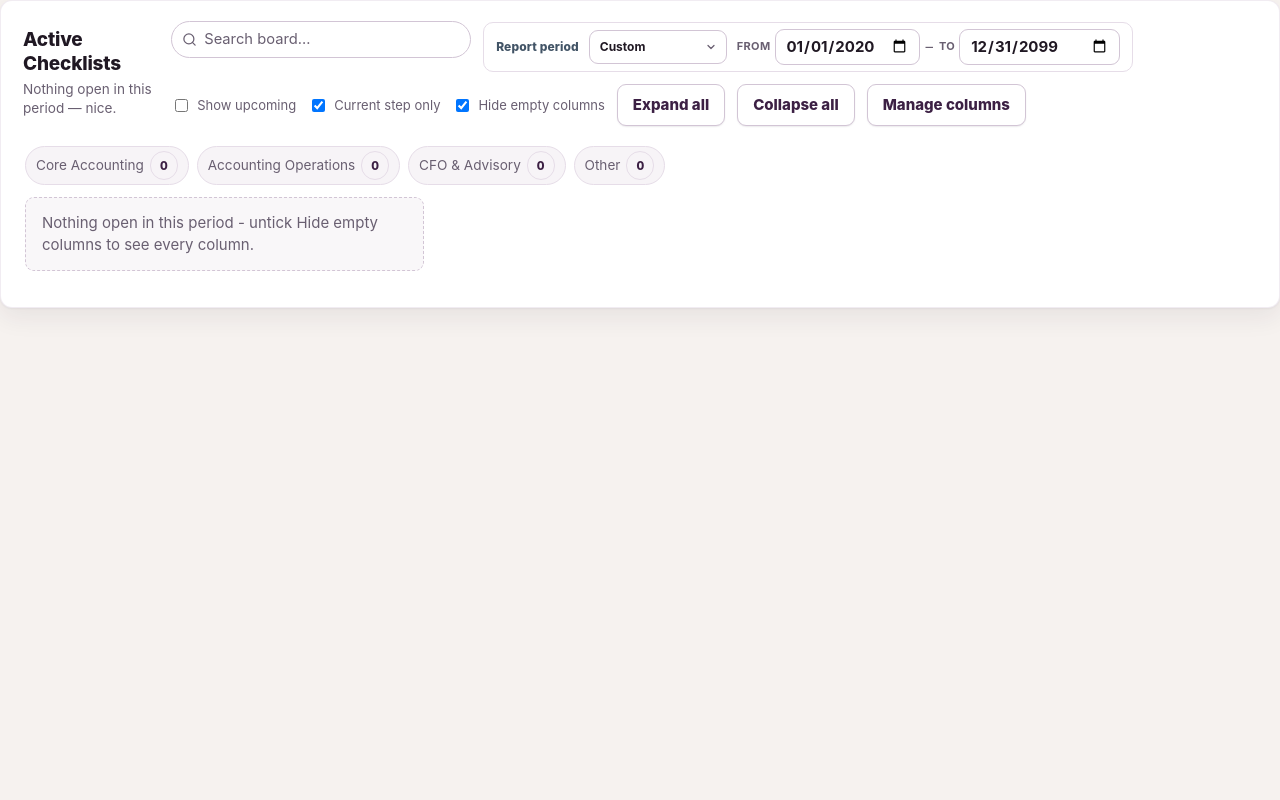
Board column groups: grouped body and Hide empty columns › with every column hidden as empty, says so in one line until unticked
Expected: the text "Nothing open in this period - untick Hide empty columns to see every column." is shown, [25,198,424,271]
Click the checkbox labelled "Hide empty columns" at (463, 105), box [456,99,470,112]
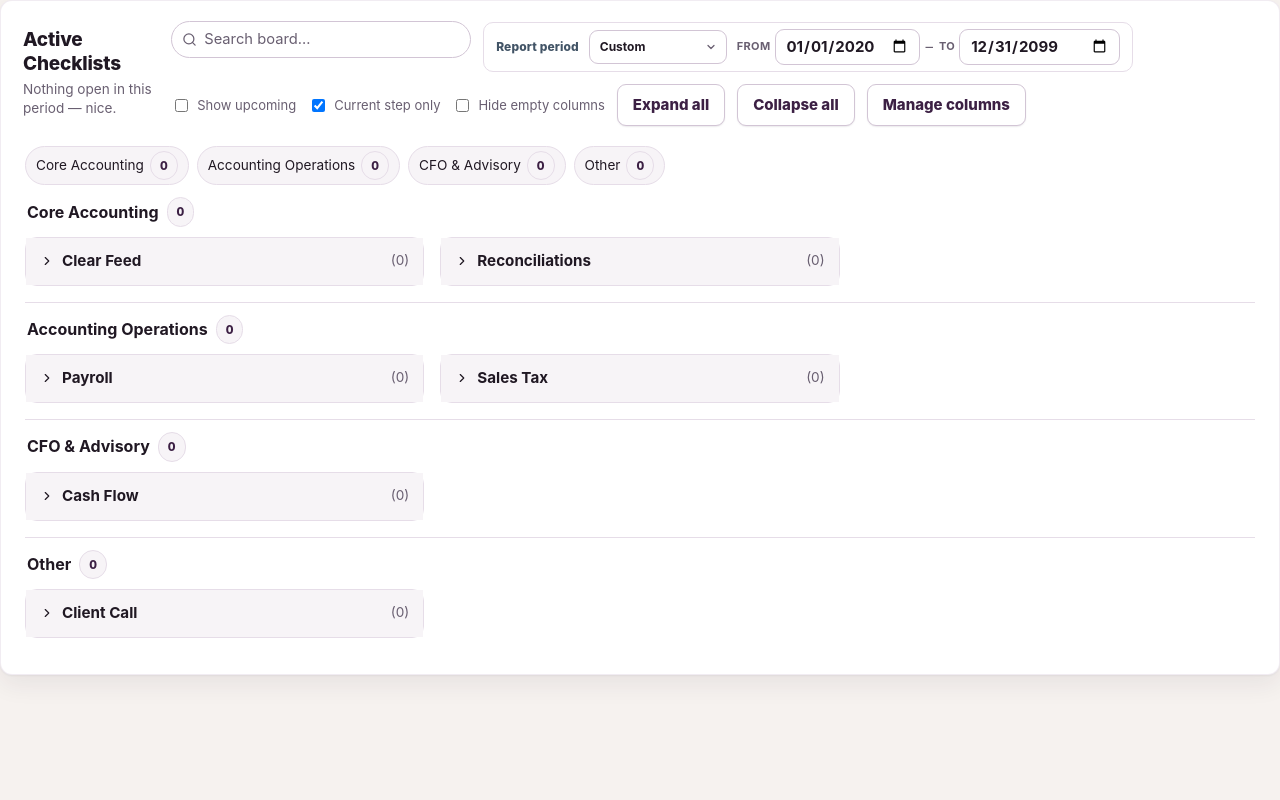
Result: the text "Nothing open in this period - untick" is gone
